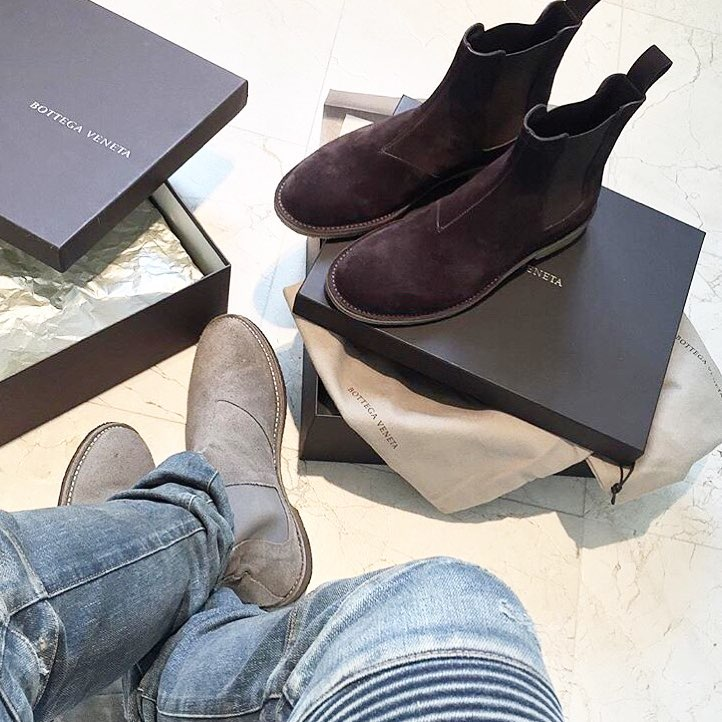sneaker: (162, 293, 328, 618), (37, 400, 169, 538)
